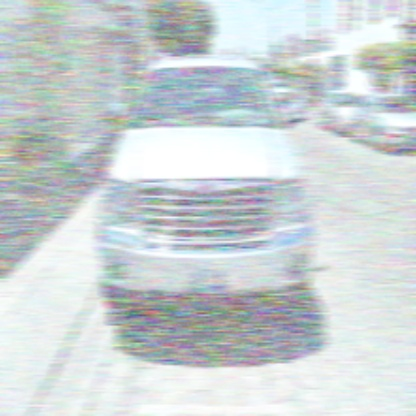Vehicle: (98, 48, 317, 318)
